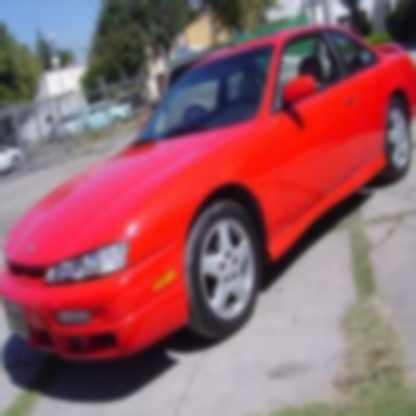Vehicle: (1, 21, 415, 366)
